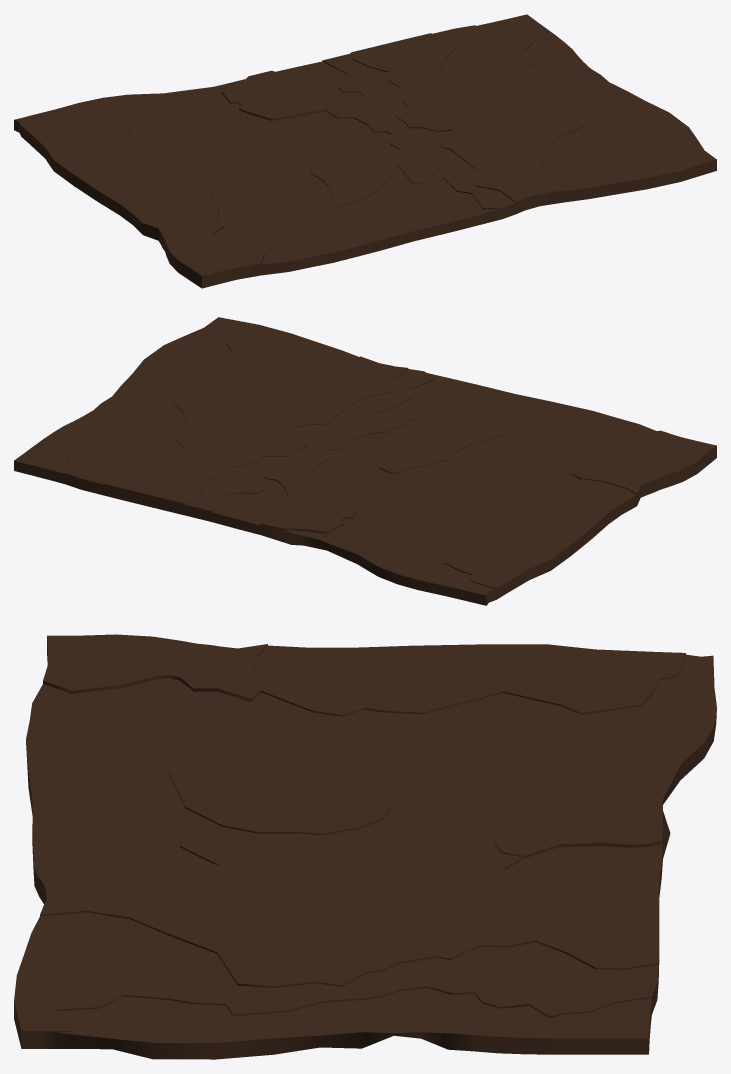
Rendered from ForestBase.fbx.
The picture shows the model from 3 angles, top to bottom: view 1: azimuth 30°, elevation 25°; view 2: azimuth 150°, elevation 25°; view 3: azimuth 270°, elevation 25°; orthographic projection. The views are drawn at different scales.
Visible parts, largest first — view 1: pCube35; view 2: pCube35; view 3: pCube35.
Part boxes in pixels (x1,y1,x2,y2): pCube35: (14, 14, 716, 288); pCube35: (14, 317, 716, 605); pCube35: (14, 634, 716, 1059).
Size of the model in its own units: 55.14 by 1.35 by 40.41.
